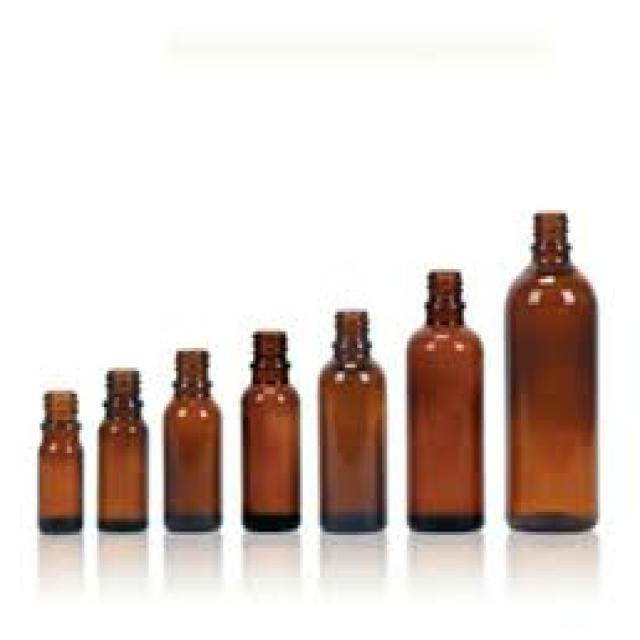Glass: (508, 213, 600, 536), (402, 267, 486, 535), (318, 304, 387, 534), (237, 328, 302, 534), (159, 350, 221, 536), (96, 364, 148, 532), (38, 390, 85, 534)
